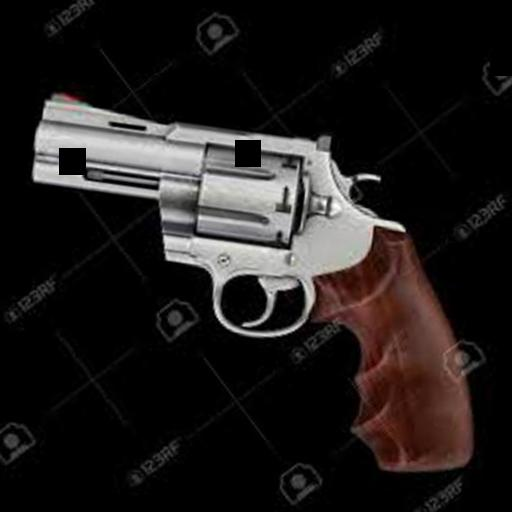Handgun: (0, 80, 510, 485)
